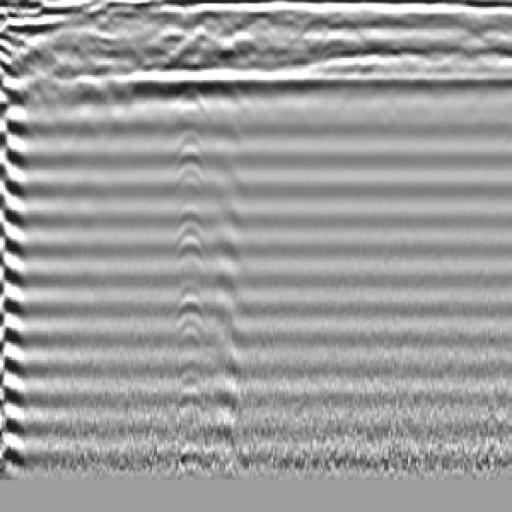non-metallic: (1, 32, 40, 461)
